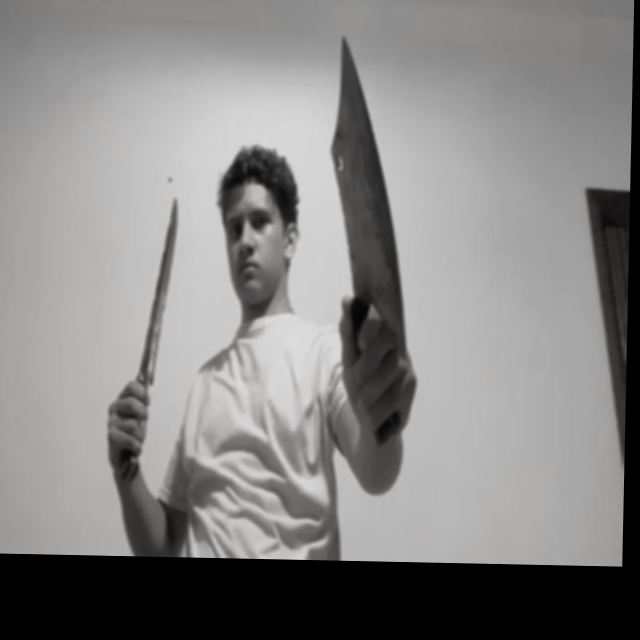Sharp-Object: (327, 36, 414, 352), (141, 200, 178, 381)
